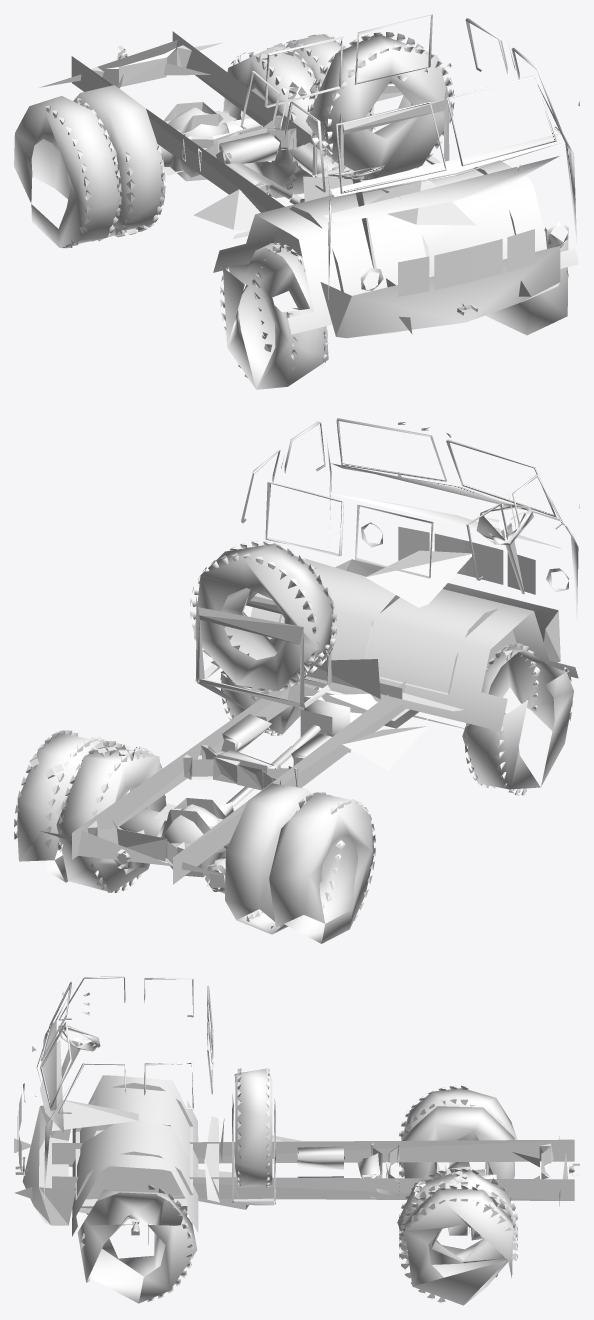
3 renders of one model, top to bottom at view 1: azimuth 30°, elevation 25°; view 2: azimuth 150°, elevation 25°; view 3: azimuth 270°, elevation 25°, orthographic. The views are drawn at different scales.
Bounding box in the file's own units: 3.14 × 3.15 × 6.53.
1 material, 1 textured.
